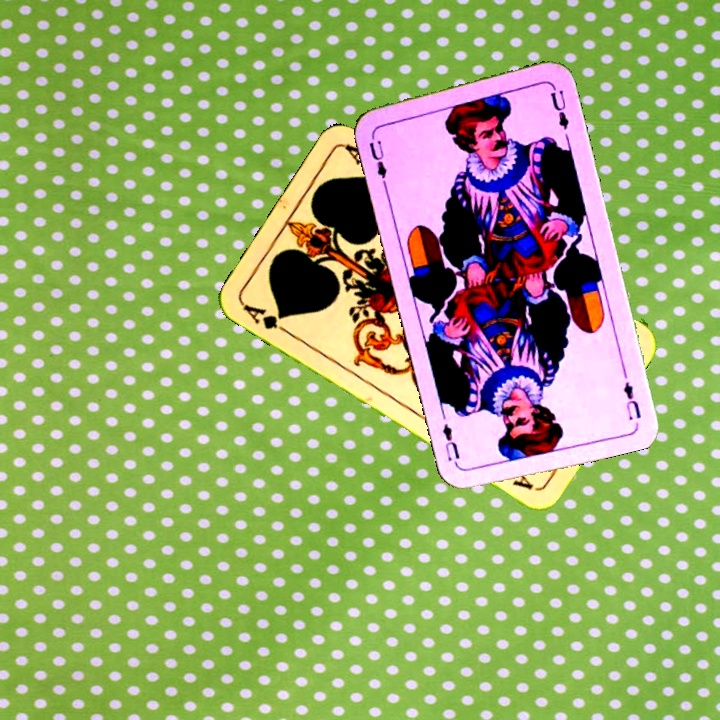EU: (365, 136, 390, 188), (619, 377, 644, 423)
GA: (238, 299, 292, 337)
